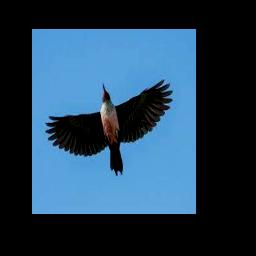Woodpecker: (46, 80, 173, 176)
